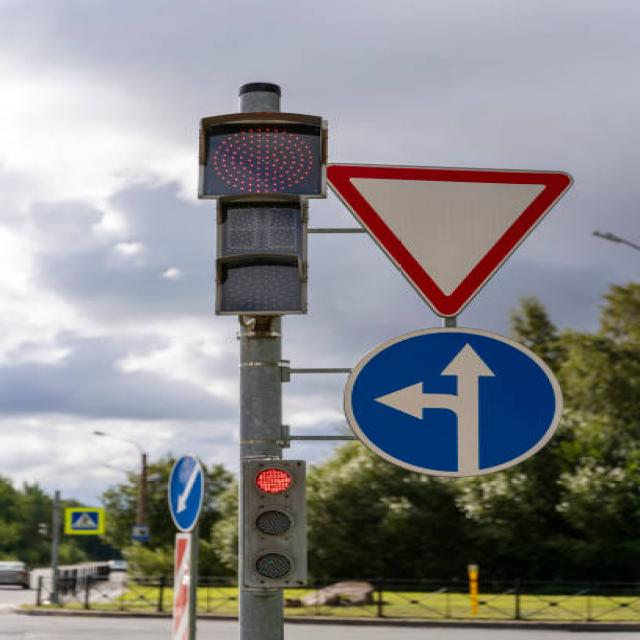give_way: (314, 148, 590, 321)
